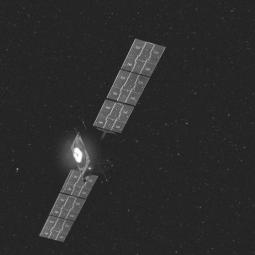smart_1: (51, 113, 125, 191)
